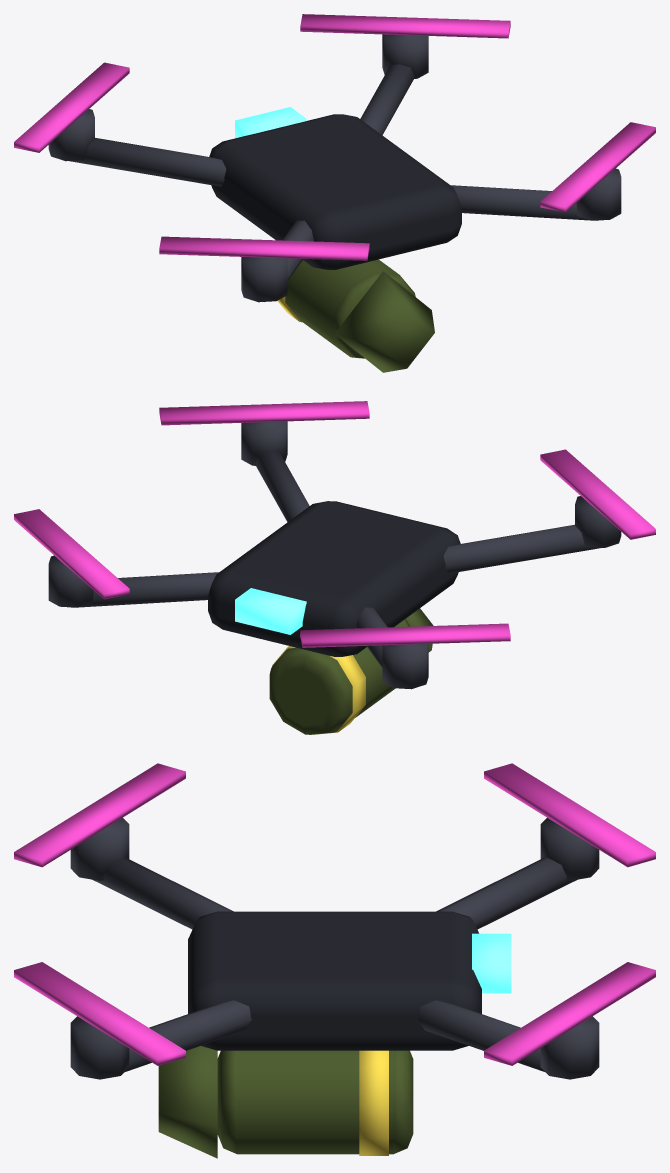
The model's file is x_strike_drone.glb.
3 views of the same model, one above another, from view 1: azimuth 30°, elevation 25°; view 2: azimuth 150°, elevation 25°; view 3: azimuth 270°, elevation 25° (orthographic). The views are drawn at different scales.
Visible parts, largest first — view 1: drone; view 2: drone; view 3: drone.
Boxes of the visible parts, bbox=[...] form: drone: bbox=[14, 14, 655, 372]; drone: bbox=[14, 401, 655, 734]; drone: bbox=[14, 763, 655, 1158].
Bounding box in the file's own units: 0.7143 × 0.279 × 0.6557.
